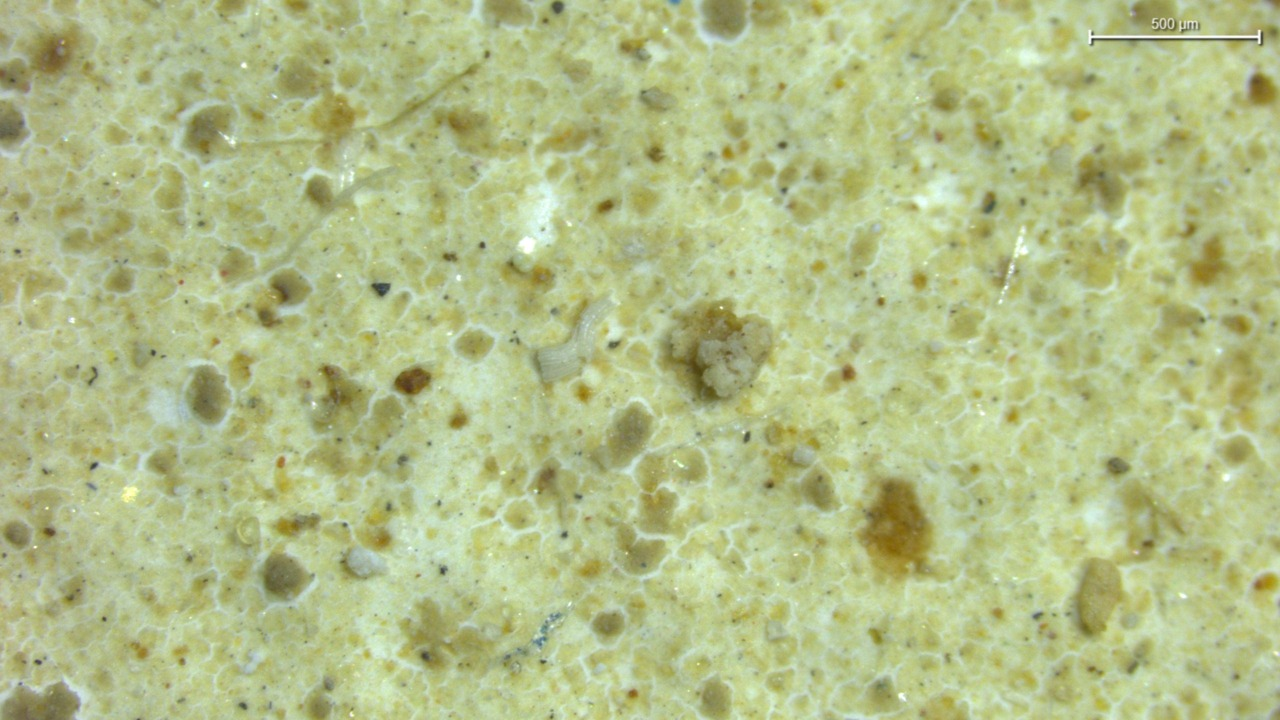microplastic_fragment: (536, 297, 616, 382), (697, 322, 769, 397), (1078, 558, 1122, 633), (345, 546, 386, 577)
